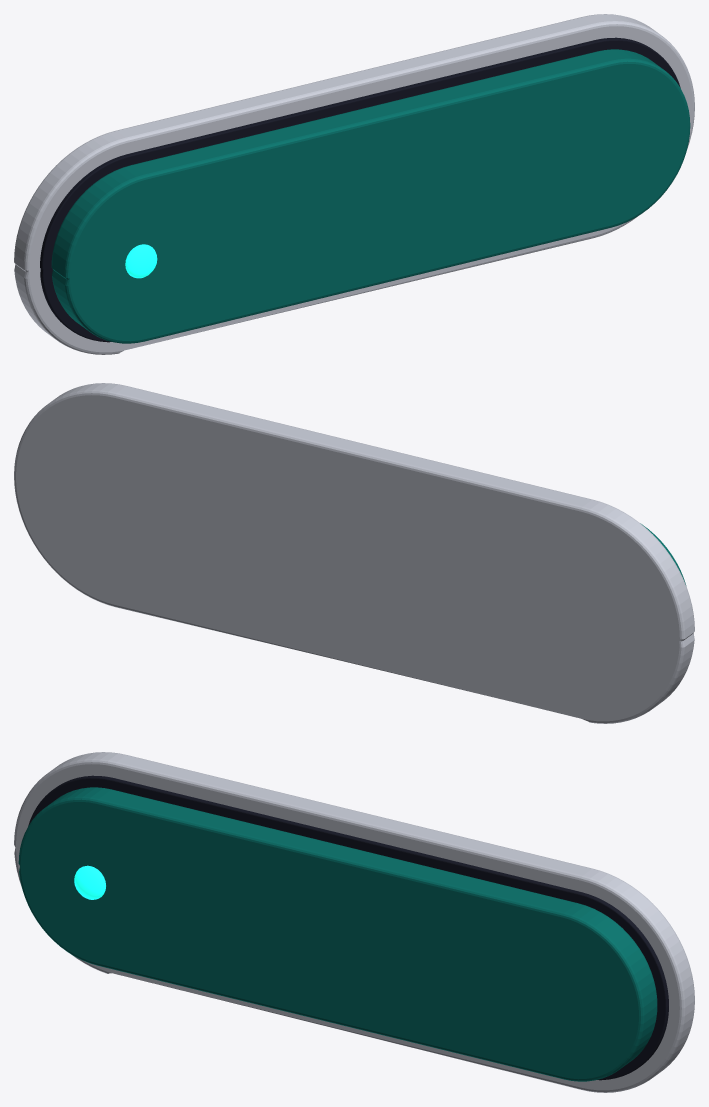
The model's file is rs_button_ai.glb.
3 views of the same model, one above another, from view 1: azimuth 30°, elevation 25°; view 2: azimuth 150°, elevation 25°; view 3: azimuth 330°, elevation 25° (orthographic).
Visible parts, largest first — view 1: CapBody, Tray, Well, LiveDot; view 2: Tray; view 3: CapBody, Tray, Well, LiveDot.
Boxes of the visible parts, x1,y1,x2,y2 form: CapBody: (51, 49, 690, 343); Tray: (14, 14, 694, 354); Well: (40, 37, 680, 342); LiveDot: (125, 244, 157, 278); Tray: (14, 383, 694, 723); CapBody: (18, 787, 657, 1081); Tray: (14, 752, 694, 1092); Well: (28, 775, 668, 1080); LiveDot: (74, 865, 105, 899).
Size of the model in its own units: 2.36 by 0.72 by 0.2225.
